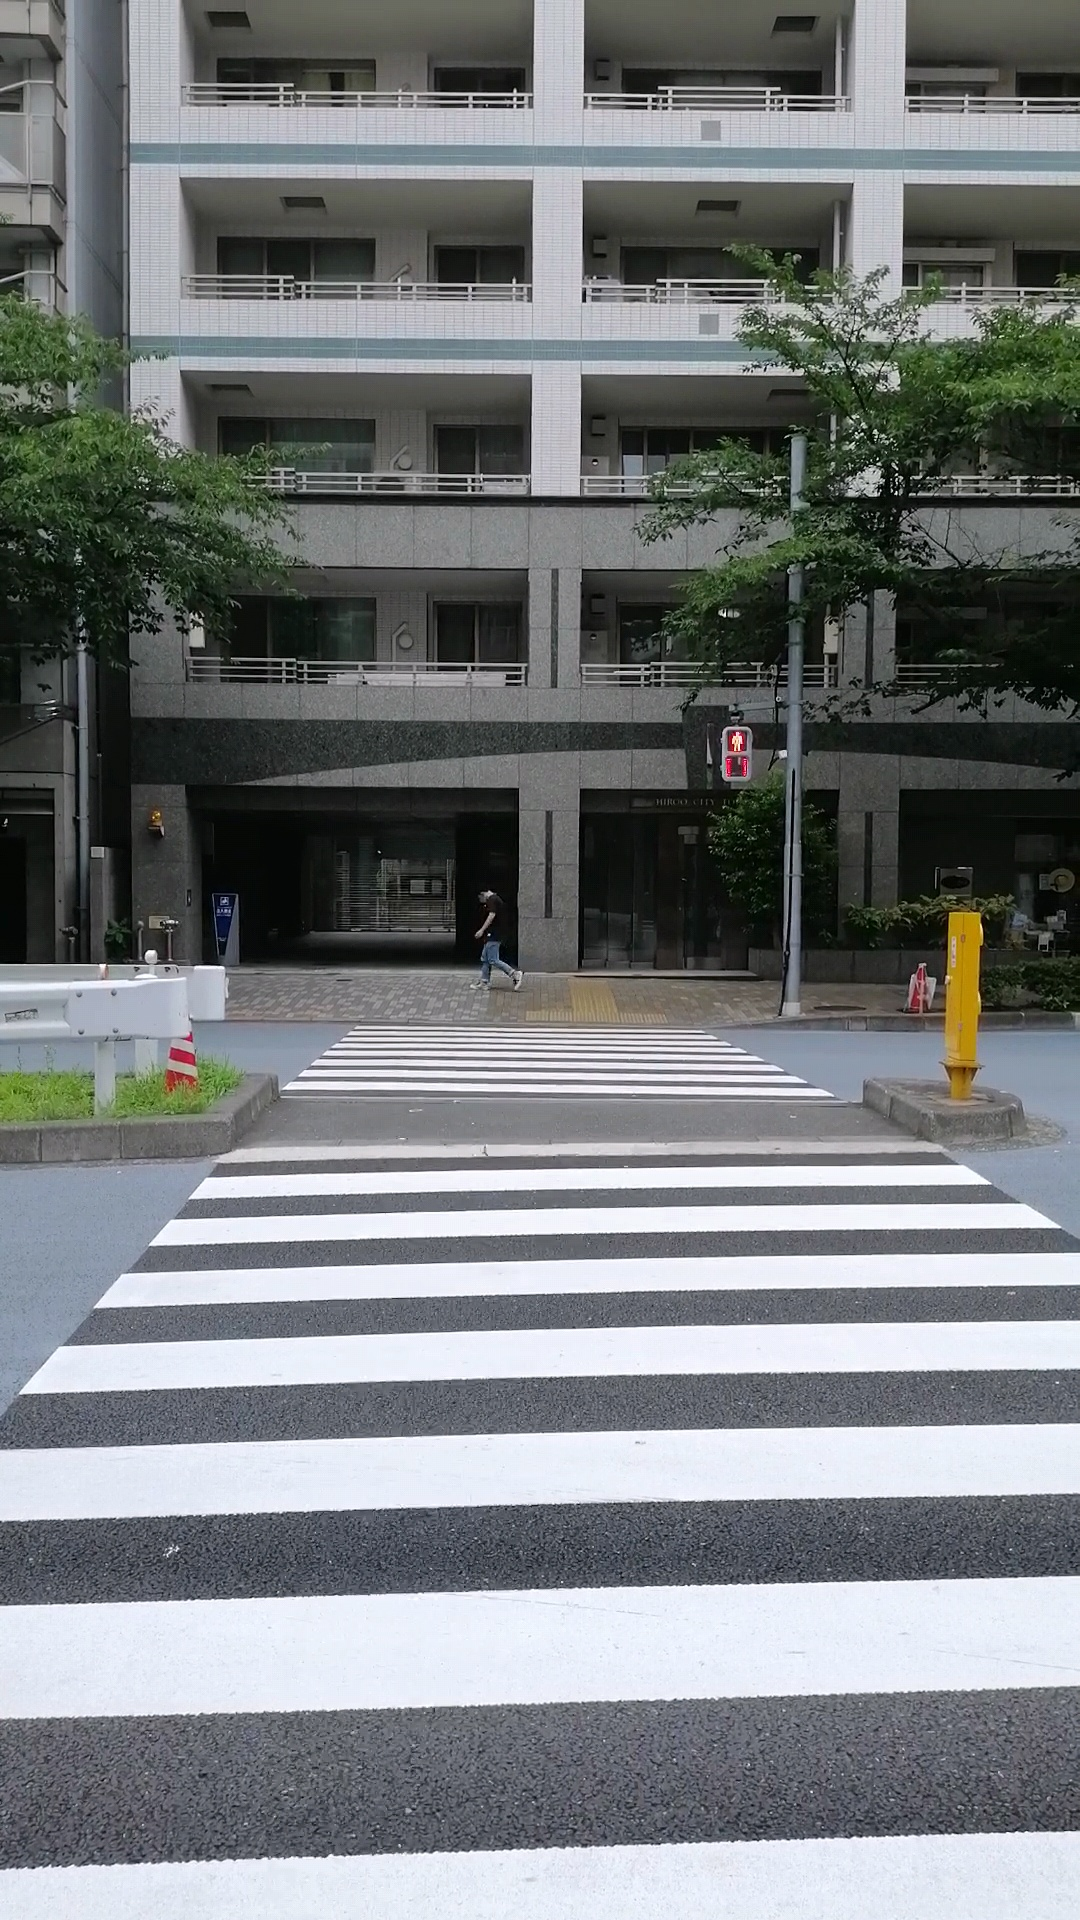red: (719, 727, 752, 782)
